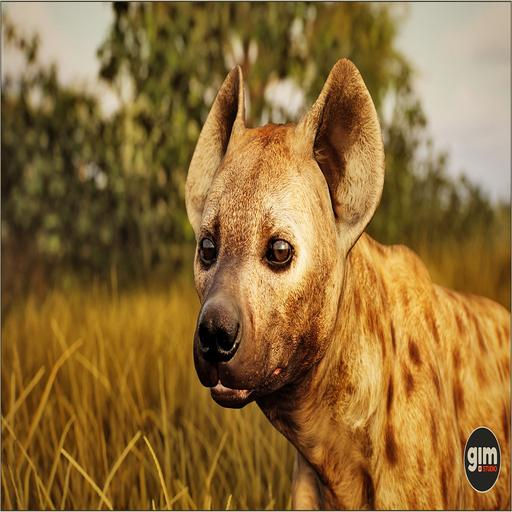Hyena: (188, 59, 512, 510)
